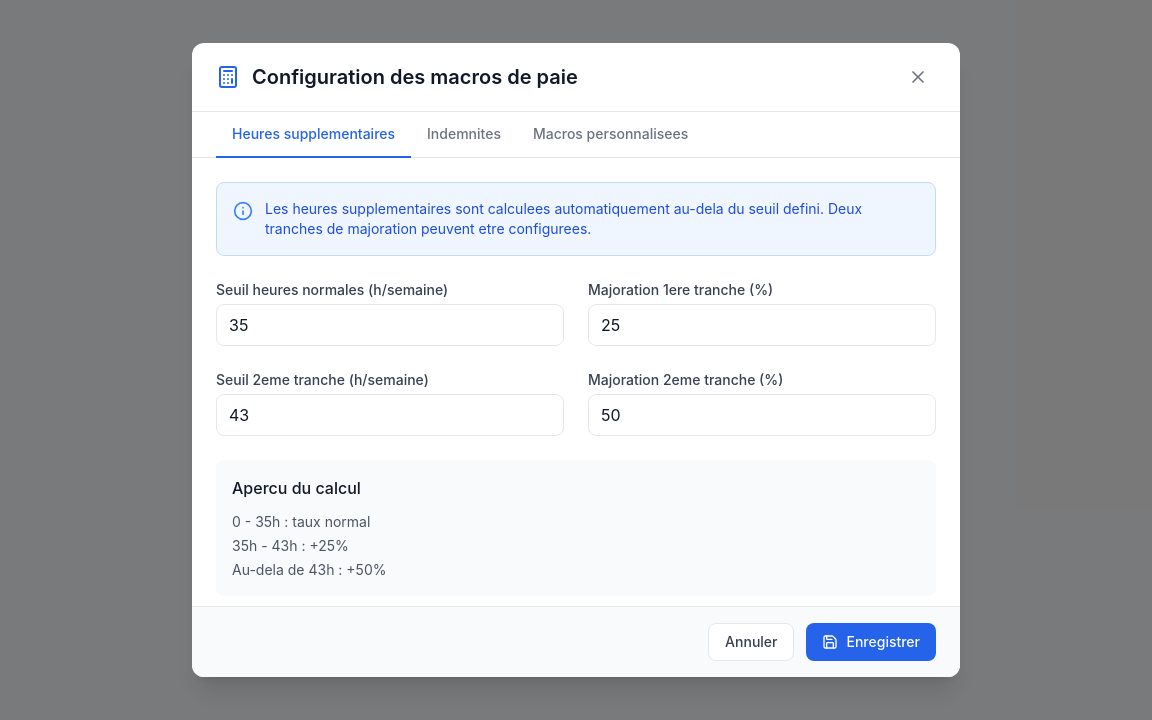
Test: PayrollMacrosConfig › Onglet Indemnites › affiche les champs d'indemnites
Click the button "Indemnites": (464, 135) [411,112,517,158]
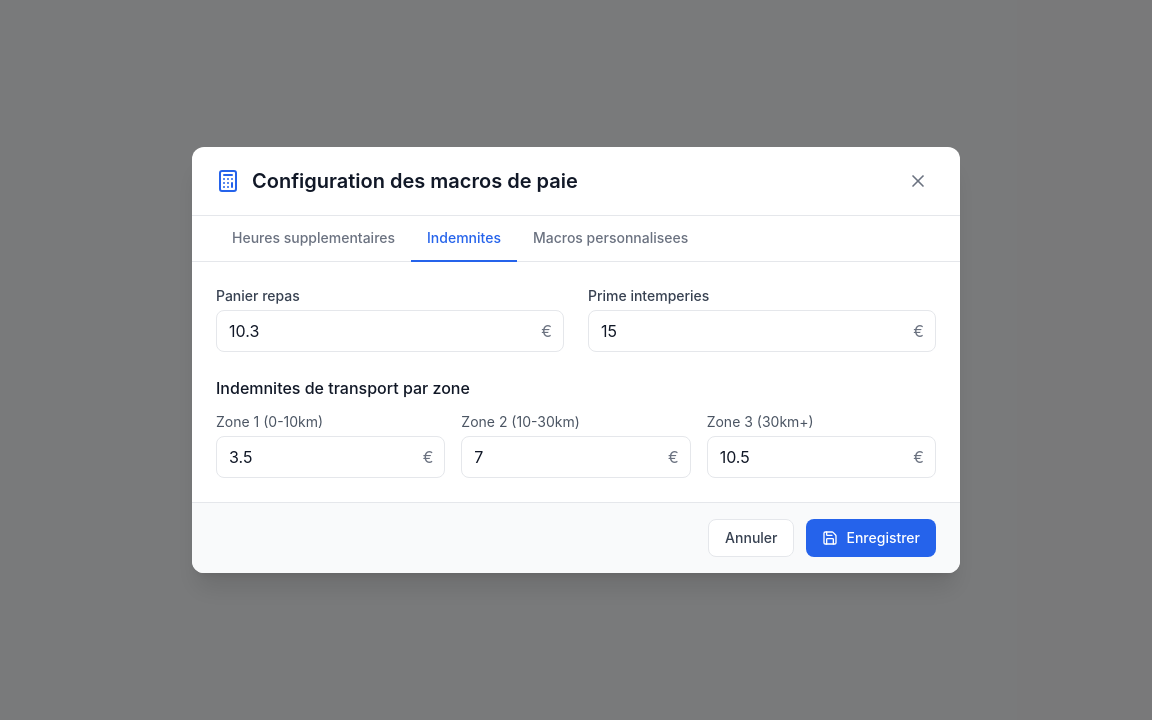
Check: the number field named "Montant panier repas" holds "10.3", box [216,310,564,352]
Check: the number field named "Montant prime intemperies" holds "15", box [588,310,936,352]
